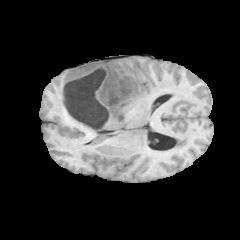glioma: (58, 60, 187, 147)
